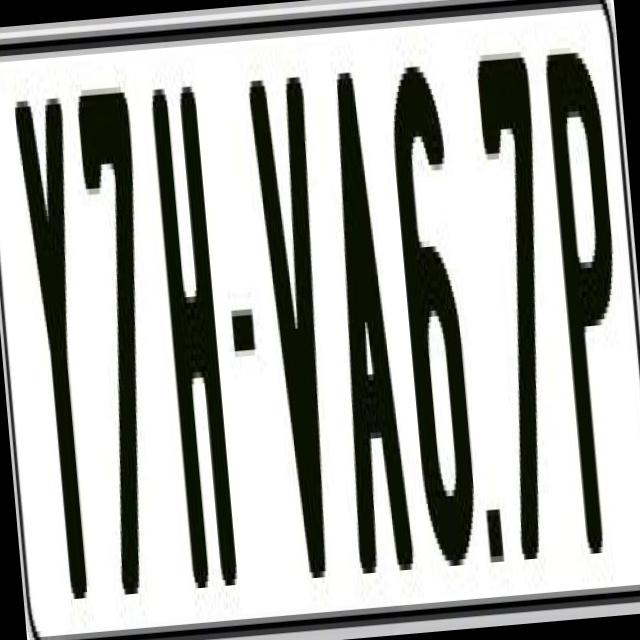6: (386, 64, 480, 573)
7: (471, 39, 571, 578), (73, 80, 168, 600)
A: (316, 70, 414, 597)
H: (148, 85, 245, 594)
P: (541, 39, 639, 548)
V: (242, 65, 344, 592)
Y: (10, 80, 104, 606)
